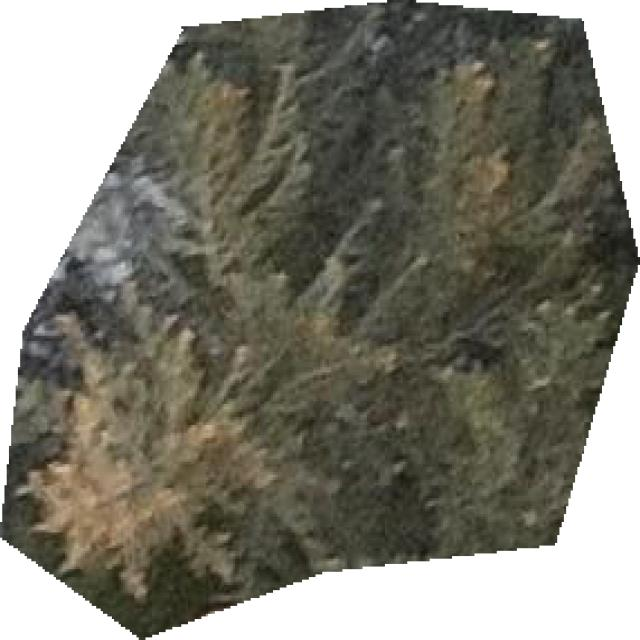spruce: (0, 0, 638, 637)
